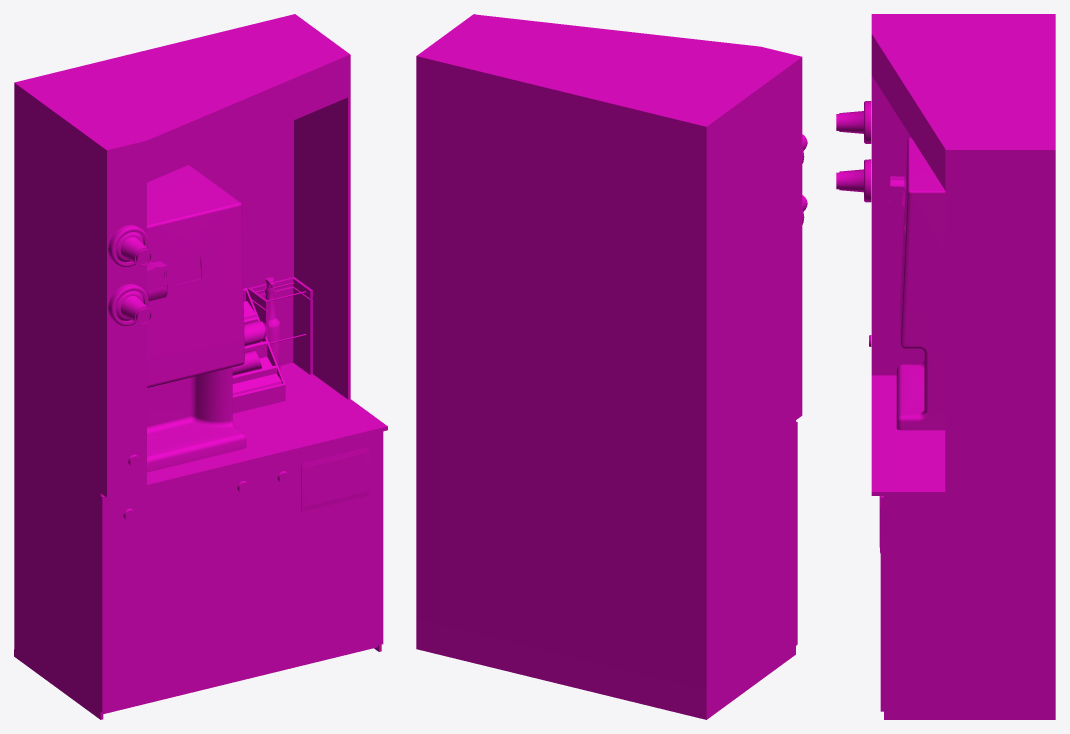
File: coffee_machine.fbx
3 views of the same model, side by side, from view 1: azimuth 30°, elevation 25°; view 2: azimuth 150°, elevation 25°; view 3: azimuth 270°, elevation 25° (orthographic). The views are drawn at different scales.
Parts seen in each view (by area): view 1: Coffee_Desk_low, Machine_low, Handler_Low, Trash_Can_low, Box_For_Things_low, Cup_Holder_low, Cup_low, Bottle_low, Machine_Screen_low, Toothpics_low; view 2: Coffee_Desk_low; view 3: Coffee_Desk_low, Machine_low, Cup_low, Cup_Holder_low, Pos_low.
Boxes of the visible parts, box(x1,y1,x2,y2) form: Coffee_Desk_low: box(14, 14, 387, 719); Machine_low: box(147, 165, 246, 472); Handler_Low: box(247, 277, 312, 374); Trash_Can_low: box(301, 447, 369, 511); Box_For_Things_low: box(232, 288, 285, 413); Cup_Holder_low: box(108, 225, 148, 325); Cup_low: box(120, 237, 151, 324); Bottle_low: box(265, 277, 280, 370); Machine_Screen_low: box(174, 256, 200, 284); Toothpics_low: box(232, 373, 281, 395); Coffee_Desk_low: box(416, 14, 802, 719); Coffee_Desk_low: box(871, 14, 1055, 719); Machine_low: box(896, 138, 945, 430); Cup_low: box(836, 111, 863, 192); Cup_Holder_low: box(864, 101, 871, 202); Pos_low: box(889, 176, 905, 218).
Size of the model in its own units: 105 by 205 by 71.52.
